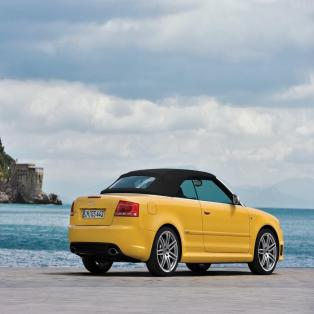Auto: (68, 168, 284, 272)
